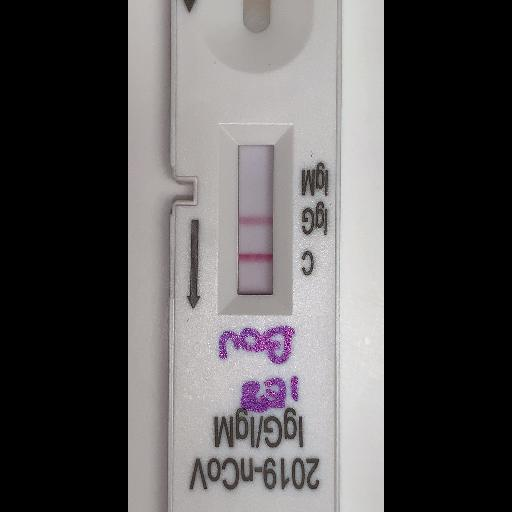Pos: (174, 0, 341, 511)
